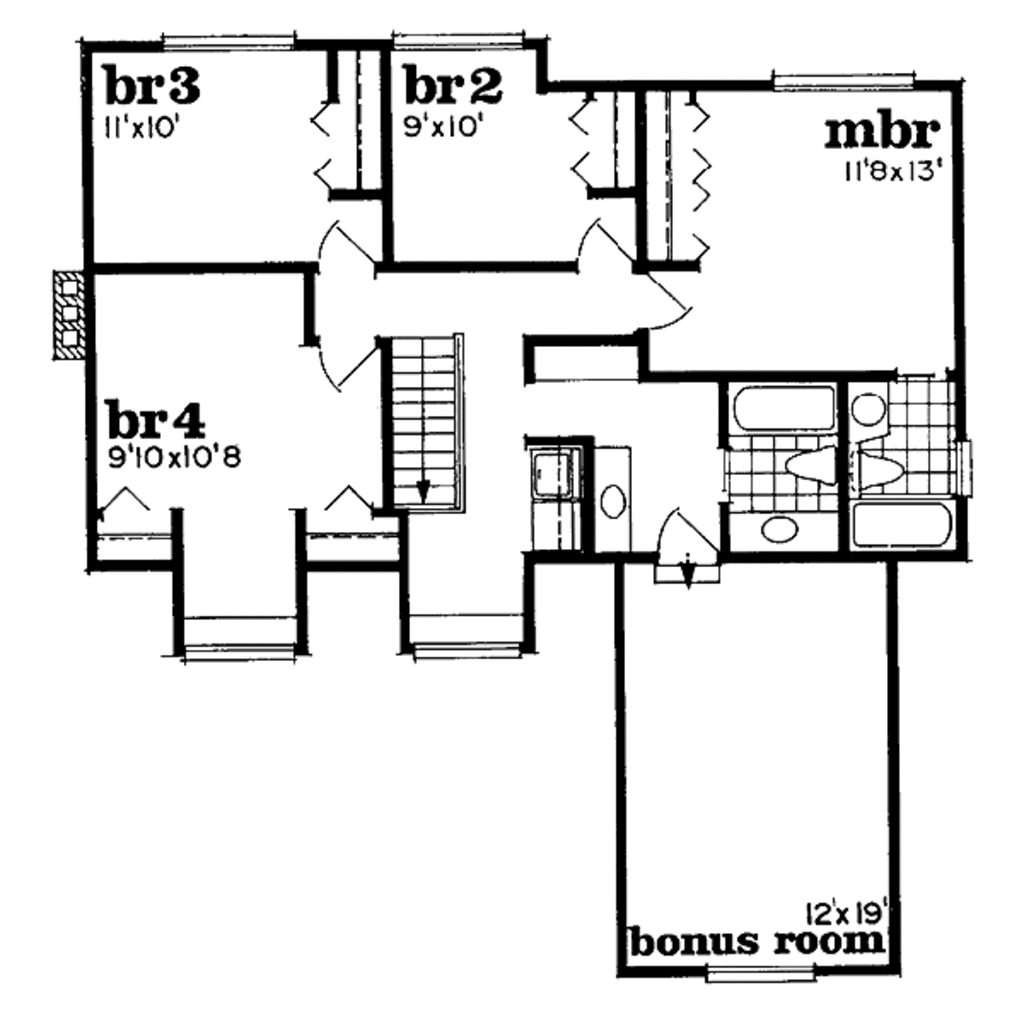door: (650, 502, 740, 597), (629, 267, 698, 340), (293, 214, 382, 267), (572, 213, 652, 270), (309, 335, 374, 395)
large_sink: (766, 435, 861, 494), (856, 448, 915, 491)
small_sink: (588, 453, 645, 562), (736, 508, 850, 556), (853, 372, 891, 435)
stairs: (364, 313, 494, 519)
tub: (721, 368, 844, 437), (847, 497, 966, 546)
window: (155, 21, 302, 56), (759, 65, 918, 97), (704, 949, 842, 980), (383, 26, 525, 56), (398, 634, 526, 656), (180, 638, 293, 662), (956, 435, 985, 495)
